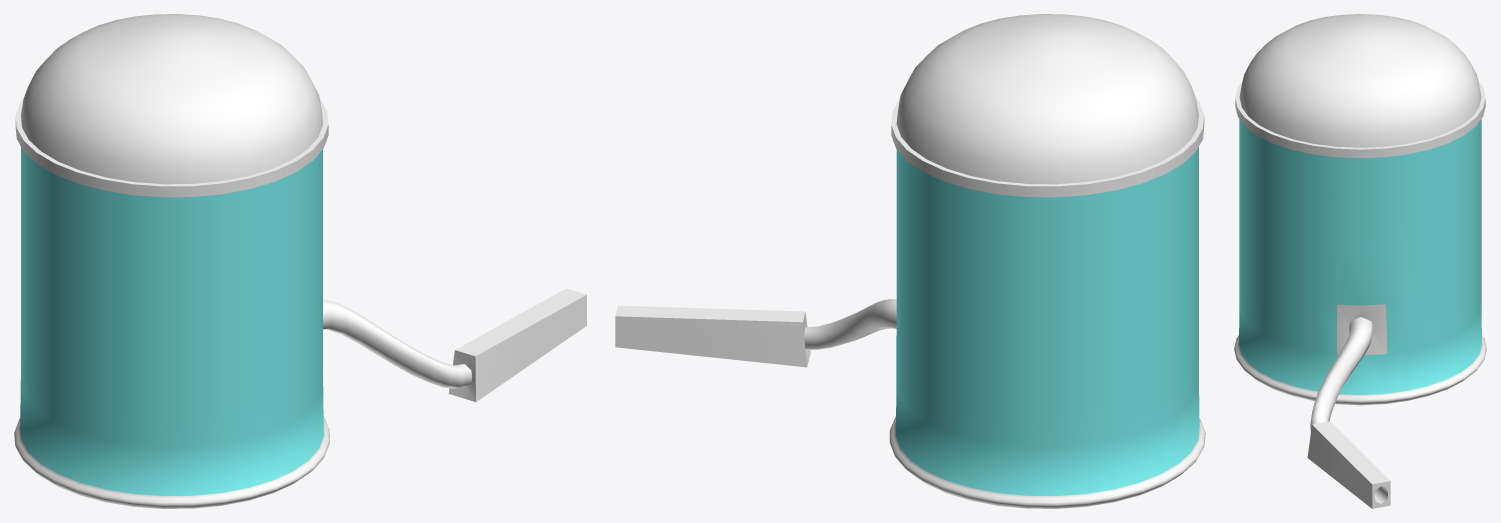
Rendered from Collector Gun Menu.fbx.
3 views of the same model, side by side, from view 1: azimuth 30°, elevation 25°; view 2: azimuth 150°, elevation 25°; view 3: azimuth 270°, elevation 25° (orthographic). The views are drawn at different scales.
Visible parts, largest first — view 1: CollectorGun_0; view 2: CollectorGun_0; view 3: CollectorGun_0.
Part boxes in pixels (<box>): CollectorGun_0: <box>14,14,586,508</box>; CollectorGun_0: <box>615,14,1205,508</box>; CollectorGun_0: <box>1234,14,1486,508</box>.
Size of the model in its own units: 4824 by 3359 by 2391.
